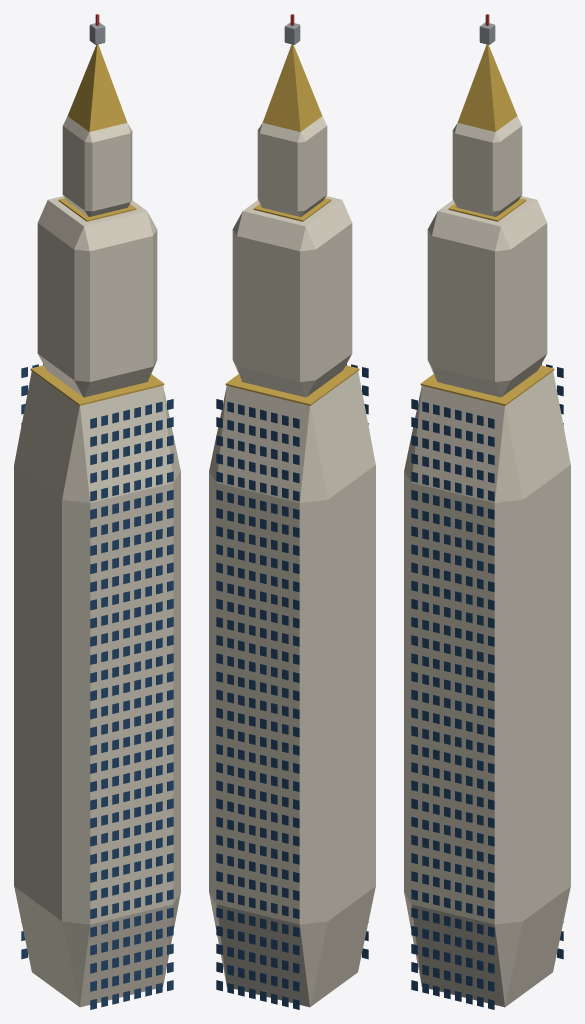
The model's file is tower_deco_h180.glb.
3 views of the same model, side by side, from view 1: azimuth 30°, elevation 25°; view 2: azimuth 150°, elevation 25°; view 3: azimuth 330°, elevation 25° (orthographic).
Parts seen in each view (by area): view 1: t1, t2, t3, pyr, decoband, decoband.001; view 2: t1, t2, t3, pyr, decoband, decoband.001; view 3: t1, t2, t3, pyr, decoband, decoband.001.
Part boxes in pixels (x1,y1,x2,y2): t1: [14, 371, 180, 1007]; t2: [37, 196, 157, 397]; t3: [62, 116, 132, 216]; pyr: [67, 44, 127, 131]; decoband: [30, 365, 164, 405]; decoband.001: [58, 198, 136, 221]; t1: [209, 371, 375, 1007]; t2: [232, 196, 352, 397]; t3: [257, 116, 327, 216]; pyr: [262, 44, 322, 131]; decoband: [225, 365, 359, 405]; decoband.001: [253, 198, 331, 221]; t1: [404, 371, 570, 1007]; t2: [427, 196, 547, 397]; t3: [452, 116, 522, 216]; pyr: [457, 44, 517, 131]; decoband: [420, 365, 554, 405]; decoband.001: [448, 198, 526, 221].
Bounding box in the file's own units: 26 × 202 × 26.34.
